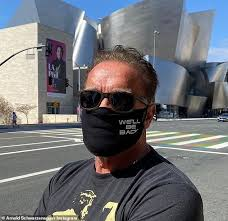mask: (81, 107, 145, 156)
